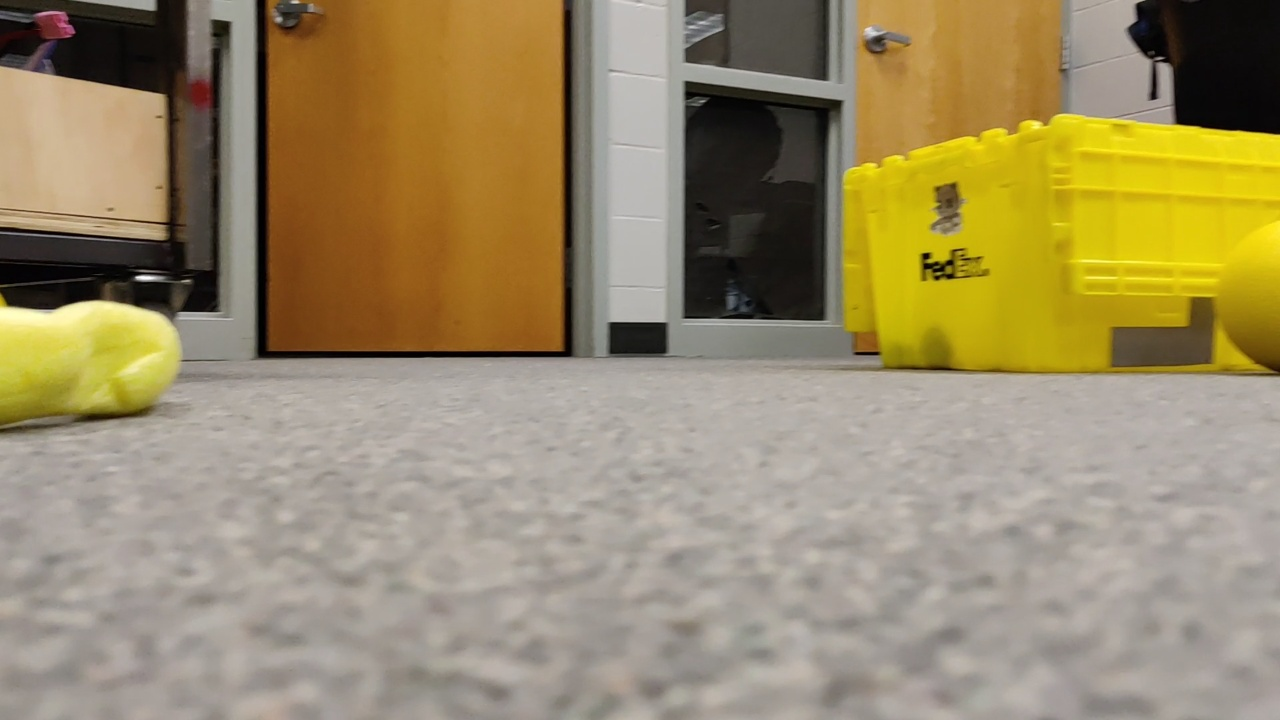Ball: (1214, 215, 1280, 374)
